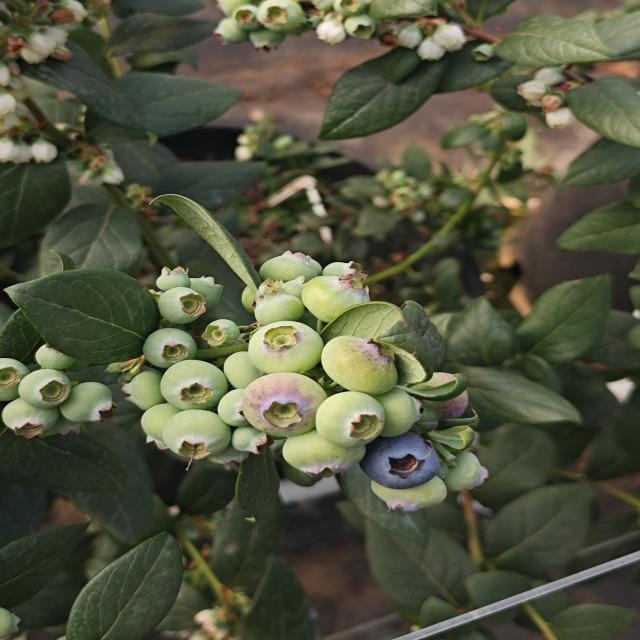ripe: (356, 427, 444, 490)
